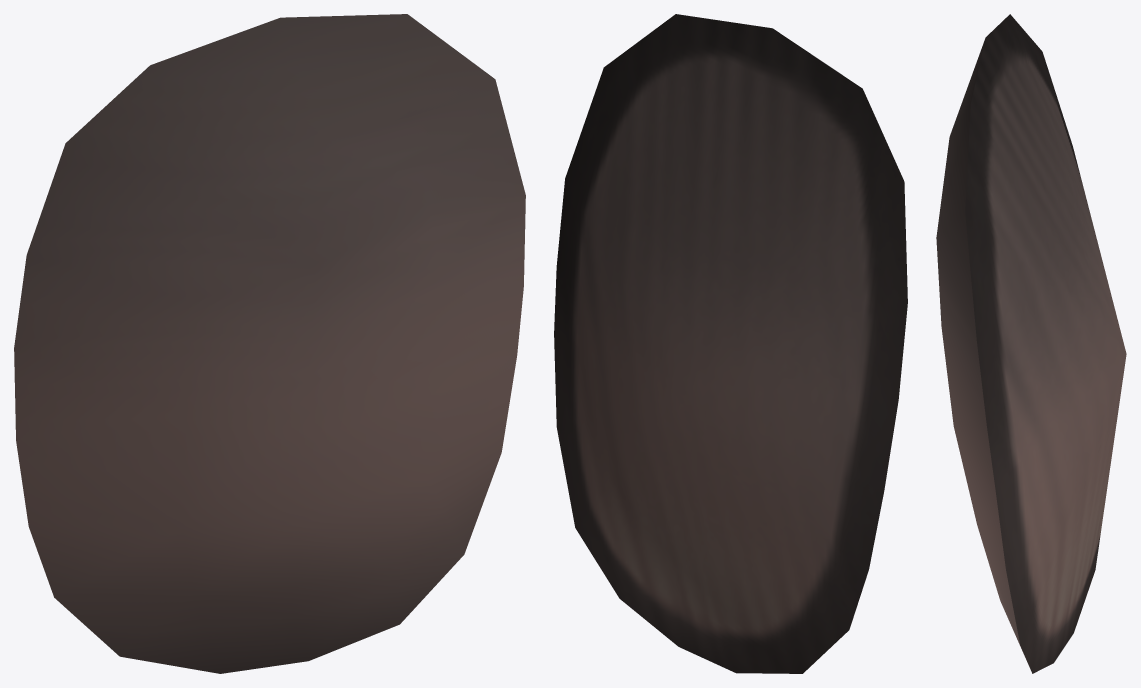
The model's file is Eye_01_R.fbx.
The picture shows the model from 3 angles, left to right: view 1: azimuth 30°, elevation 25°; view 2: azimuth 150°, elevation 25°; view 3: azimuth 270°, elevation 25°; orthographic projection. The views are drawn at different scales.
Visible parts, largest first — view 1: Eye_01_R_Cover; view 2: Eye_01_R; view 3: Eye_01_R, Eye_01_R_Cover.
Part boxes in pixels (<box>): Eye_01_R_Cover: <box>14,14,525,673</box>; Eye_01_R: <box>554,14,907,673</box>; Eye_01_R: <box>965,14,1126,673</box>; Eye_01_R_Cover: <box>936,39,1027,661</box>.
Bounding box in the file's own units: 4.65 × 6.84 × 1.97.
Materials: 1 (1 with a texture image).
